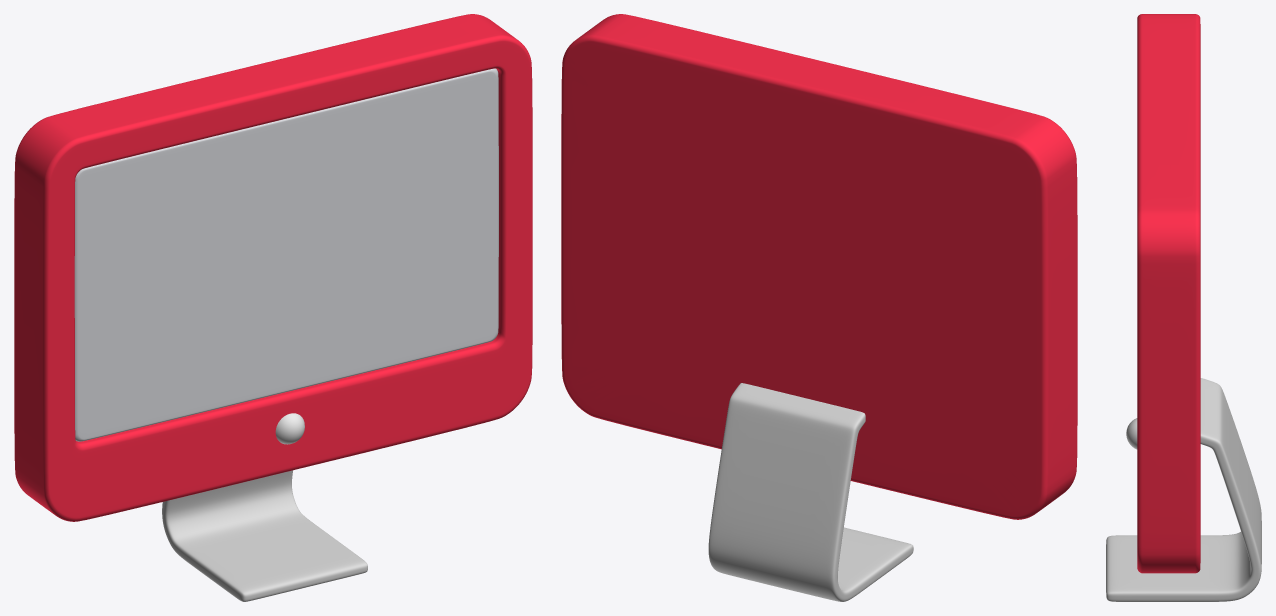
The model's file is hello.compressed.glb.
The picture shows the model from 3 angles, left to right: view 1: azimuth 30°, elevation 25°; view 2: azimuth 150°, elevation 25°; view 3: azimuth 270°, elevation 25°; orthographic projection. The views are drawn at different scales.
Visible parts, largest first — view 1: Cube027_1, Cube027, Cube027_3, Cube027_2; view 2: Cube027, Cube027_3; view 3: Cube027, Cube027_3, Cube027_2.
Boxes of the visible parts, box(x1,y1,x2,y2) form: Cube027_1: box(74, 68, 498, 441); Cube027: box(14, 14, 532, 521); Cube027_3: box(162, 470, 367, 601); Cube027_2: box(275, 413, 304, 444); Cube027: box(561, 14, 1077, 519); Cube027_3: box(708, 383, 913, 601); Cube027: box(1137, 14, 1200, 573); Cube027_3: box(1106, 378, 1261, 601); Cube027_2: box(1126, 418, 1137, 449).
Size of the model in its own units: 1.88 by 1.8 by 0.5495.
